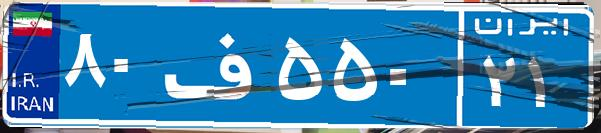0: (385, 28, 445, 110), (110, 28, 158, 105)
1: (525, 38, 570, 115)
2: (475, 38, 525, 113)
5: (273, 28, 330, 110), (330, 28, 385, 110)
8: (57, 26, 110, 107)
ف: (158, 15, 273, 115)
